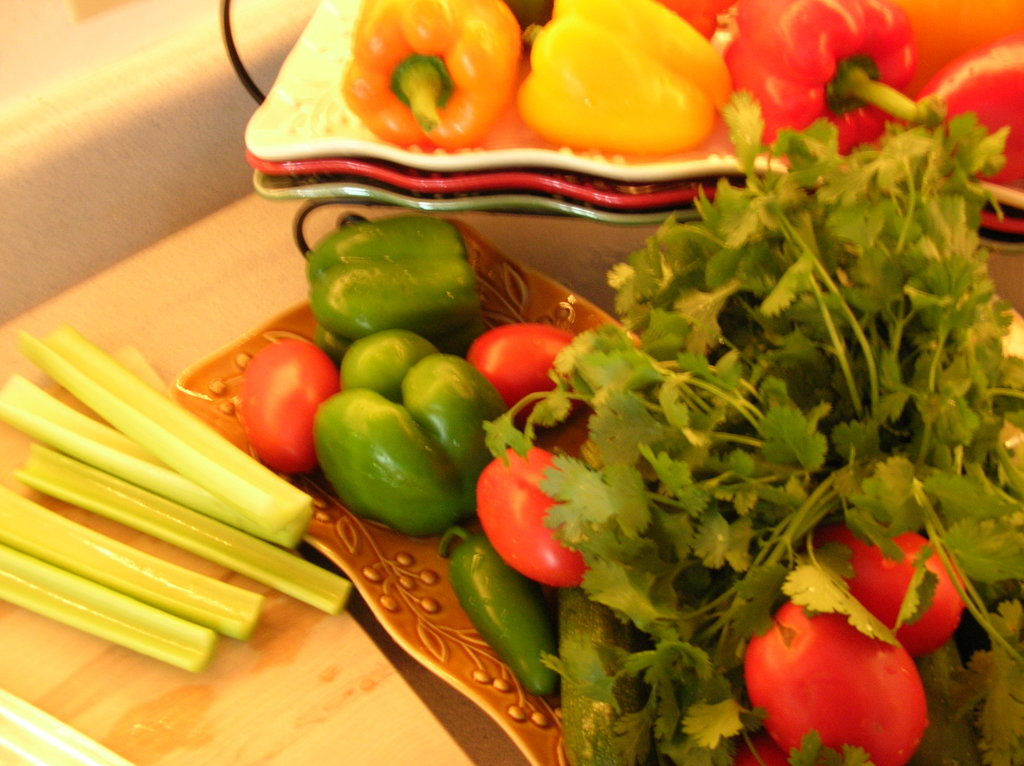Tomato: (744, 596, 931, 765), (812, 530, 970, 667), (473, 441, 593, 588), (241, 336, 343, 477), (465, 320, 583, 411)
